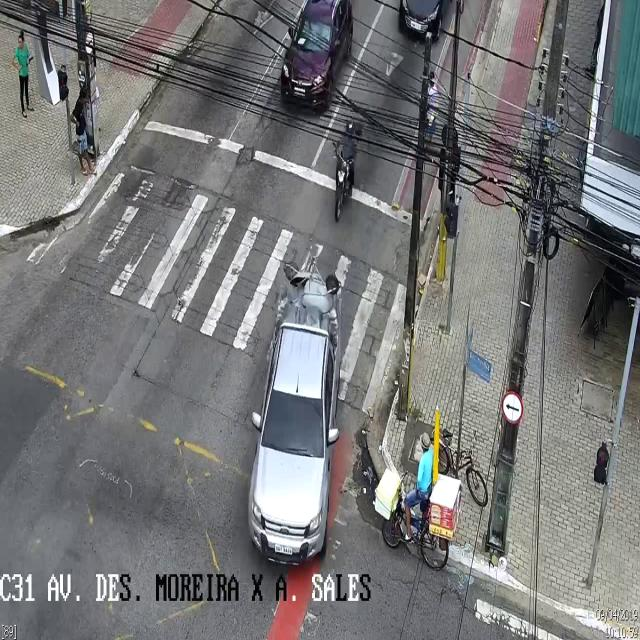Car: (246, 265, 342, 570), (280, 3, 352, 111), (399, 1, 467, 42)
Motorcycle: (331, 124, 357, 220)
